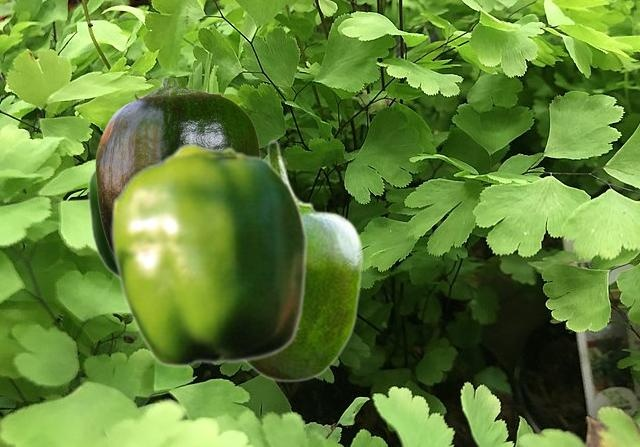bell_pepper: (110, 142, 307, 367), (245, 139, 363, 382), (95, 78, 259, 252), (87, 168, 117, 279)
